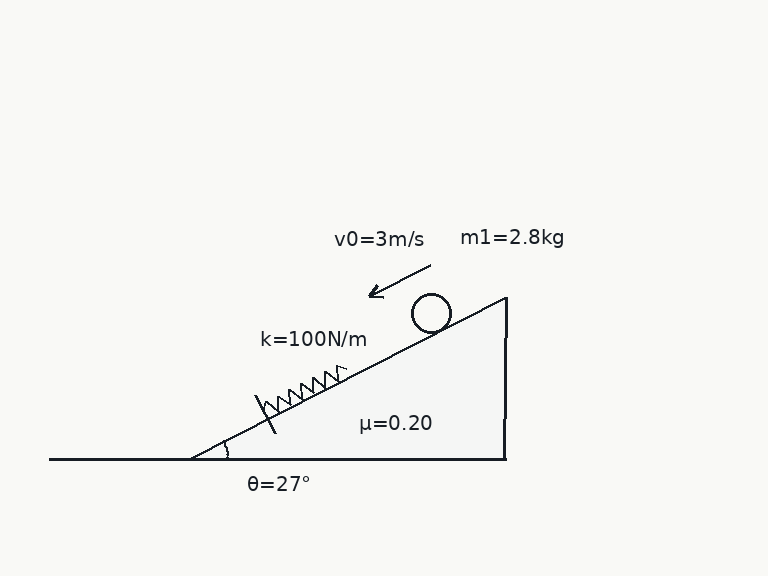ball: (409, 291, 453, 335)
ramp: (186, 295, 507, 461)
spring: (261, 363, 348, 413)
